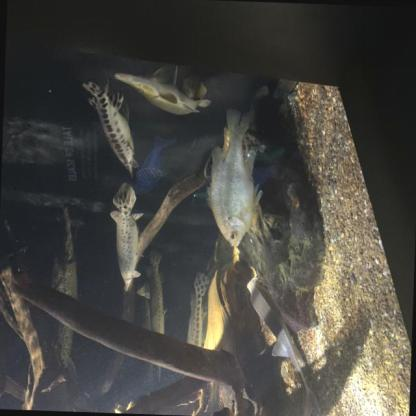fish: (203, 104, 265, 250), (43, 201, 86, 381), (77, 76, 143, 178), (112, 61, 213, 119), (106, 179, 146, 290), (134, 248, 169, 349), (133, 132, 178, 199), (185, 270, 211, 358)
shark: (241, 274, 327, 416)
